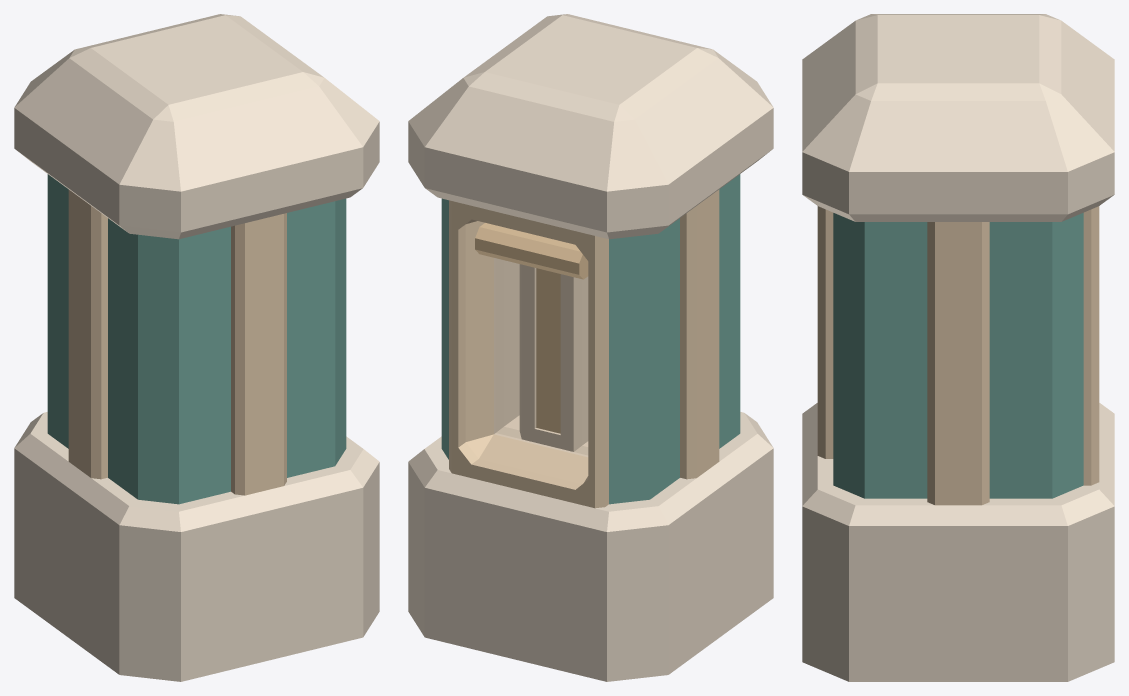
Rendered from Puzzle_Control_Rising_Switch.glb.
3 renders of one model, left to right at view 1: azimuth 30°, elevation 25°; view 2: azimuth 150°, elevation 25°; view 3: azimuth 270°, elevation 25°, orthographic. The views are drawn at different scales.
Parts seen in each view (by area): view 1: Puzzle_Control_Rising_Switch; view 2: Puzzle_Control_Rising_Switch; view 3: Puzzle_Control_Rising_Switch.
Boxes of the visible parts, x1,y1,x2,y2 form: Puzzle_Control_Rising_Switch: [14, 14, 379, 681]; Puzzle_Control_Rising_Switch: [408, 14, 773, 681]; Puzzle_Control_Rising_Switch: [802, 14, 1114, 681].
Size of the model in its own units: 0.5 by 1 by 0.5.
